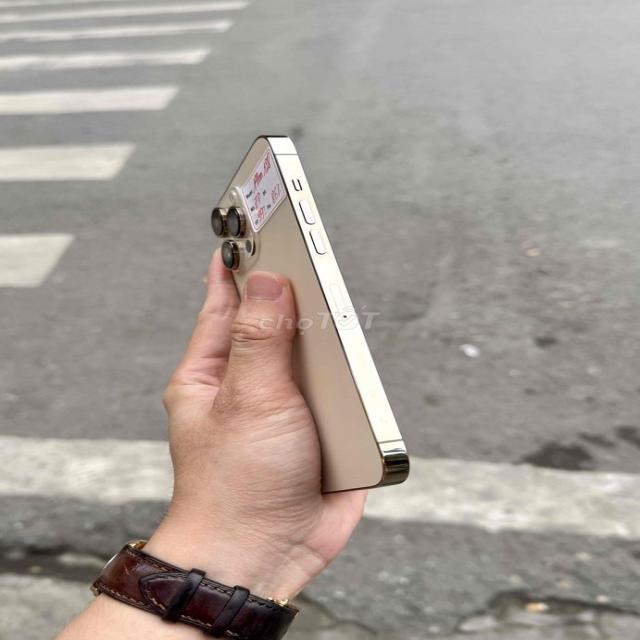gen_14: (190, 126, 426, 511)
